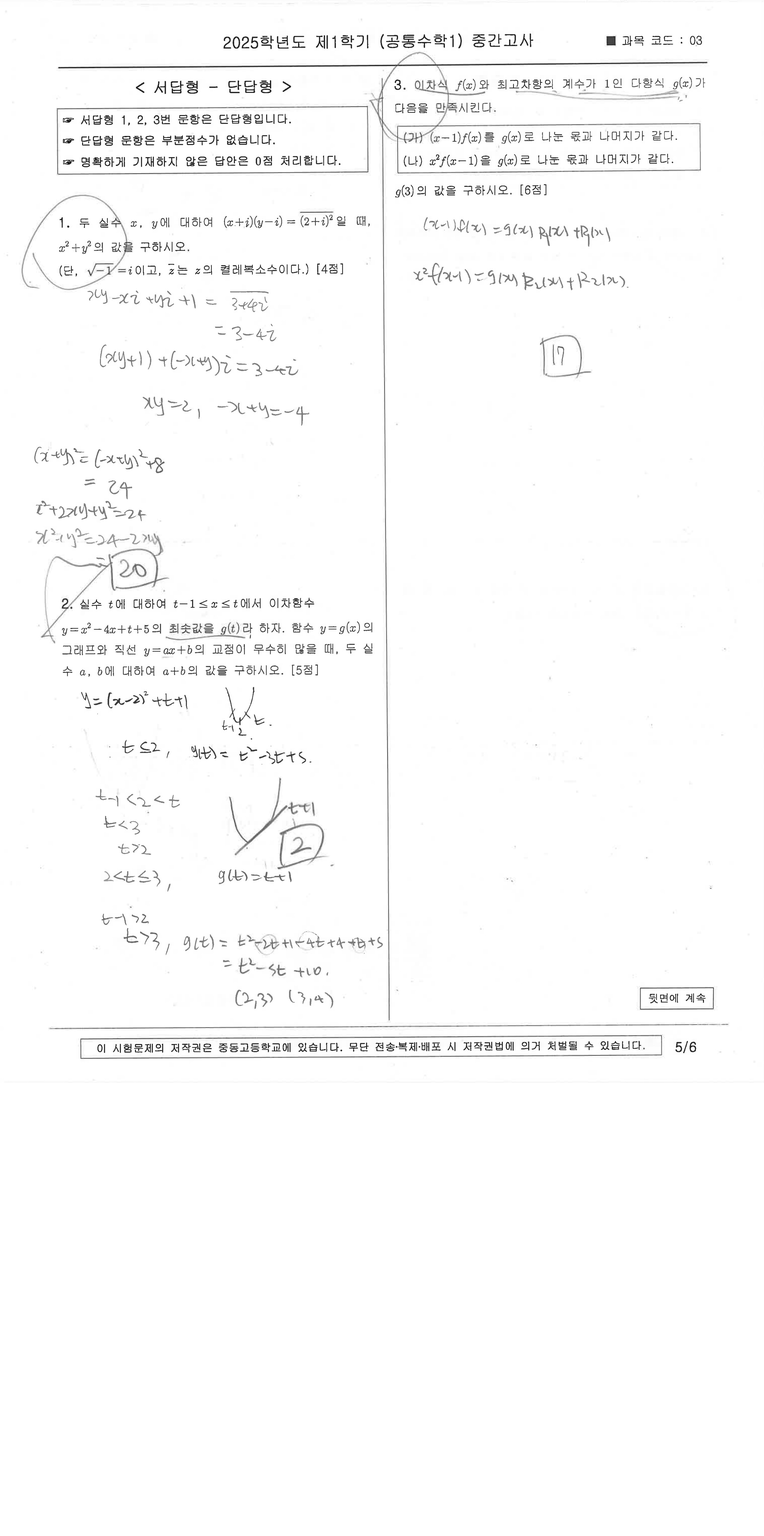problem: (390, 70, 728, 210), (53, 584, 377, 690), (42, 196, 377, 290)
